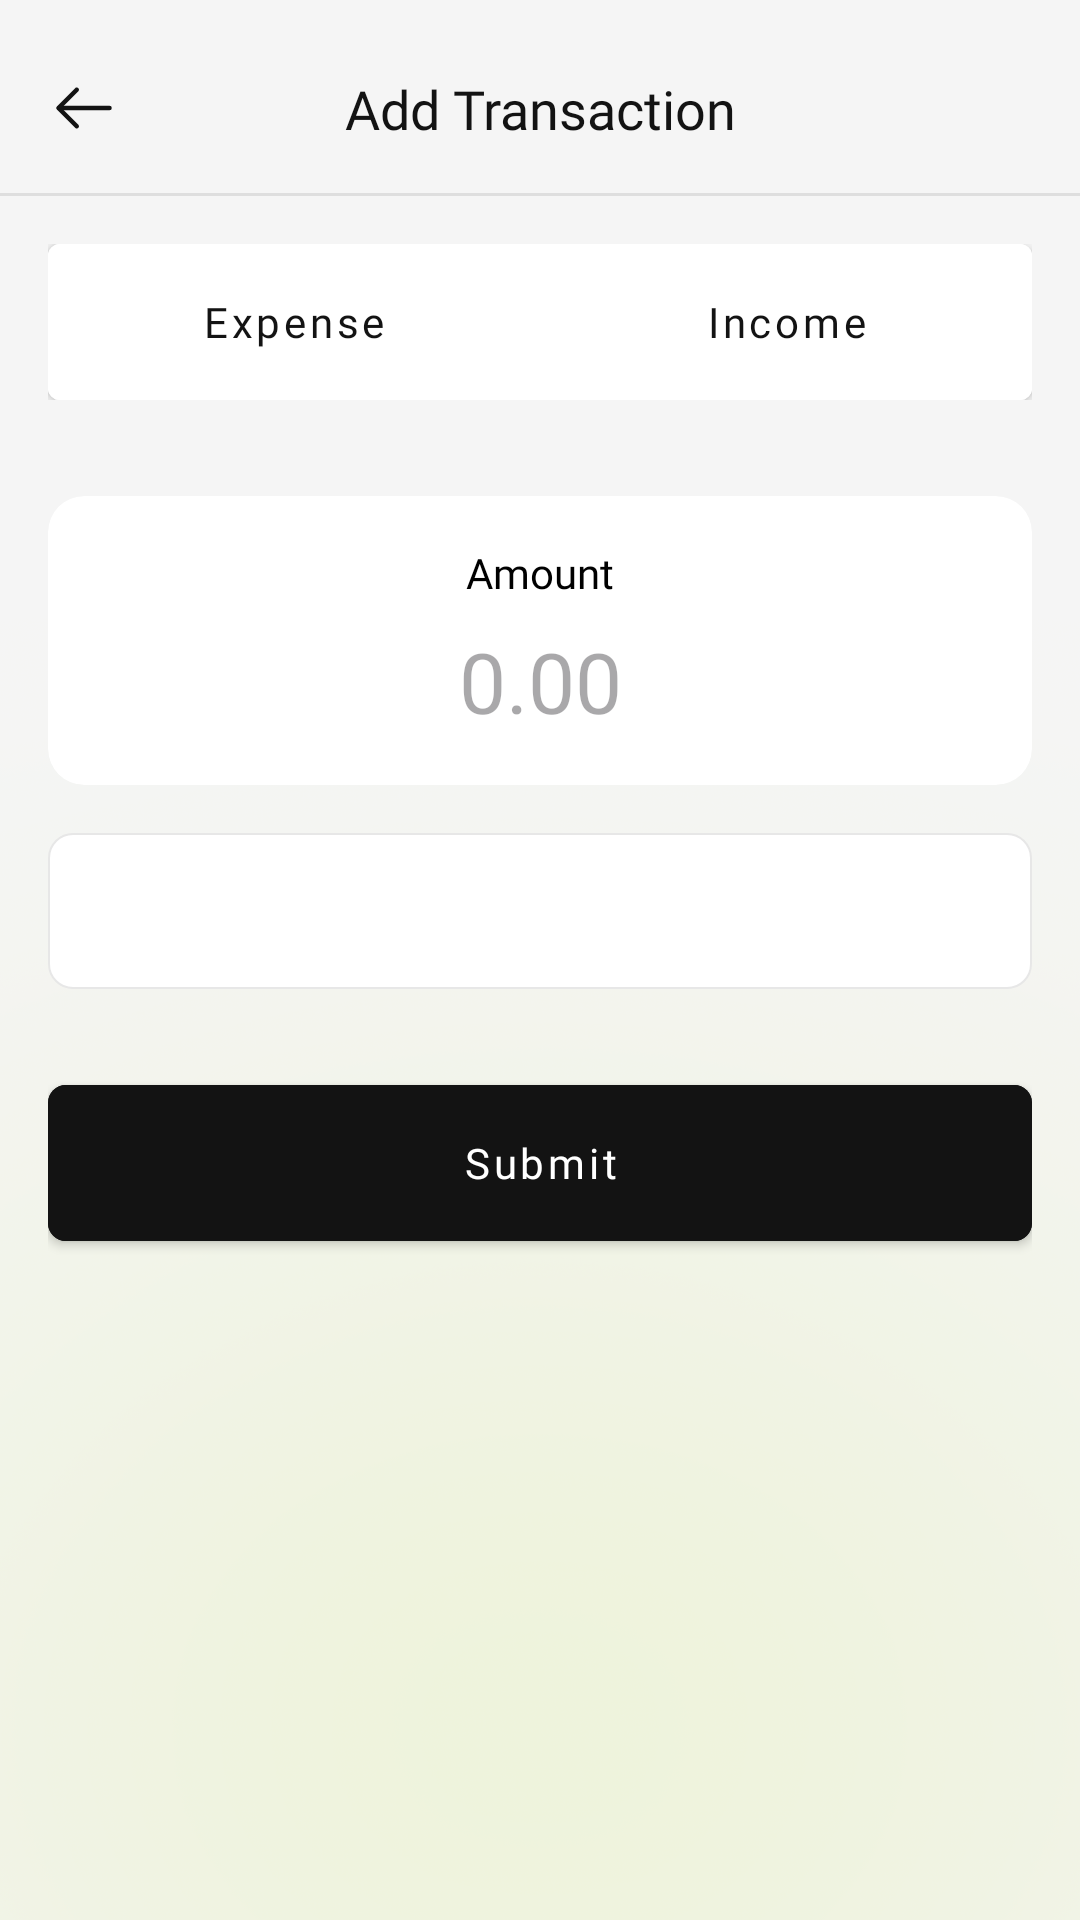

Named icons in this screenshot (1080w x 1920h) and their centers, (x=x, y=y):
back: (x=84, y=108)
